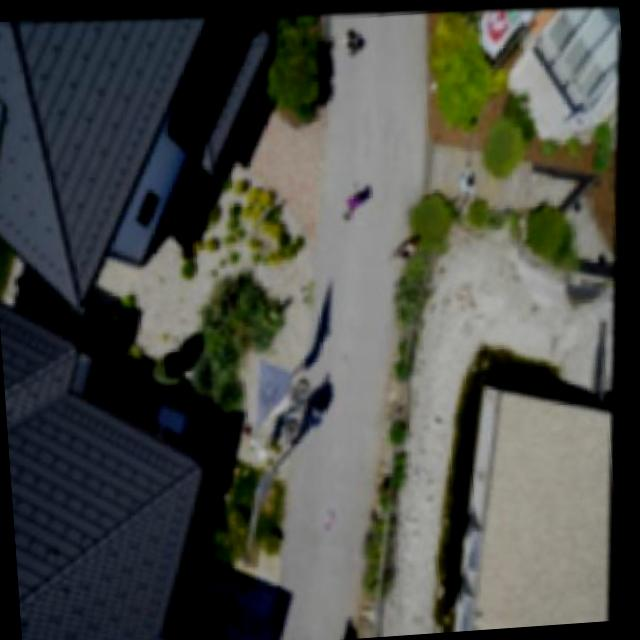Person: (333, 172, 378, 228), (384, 226, 437, 263), (456, 152, 488, 198), (334, 18, 370, 54)
